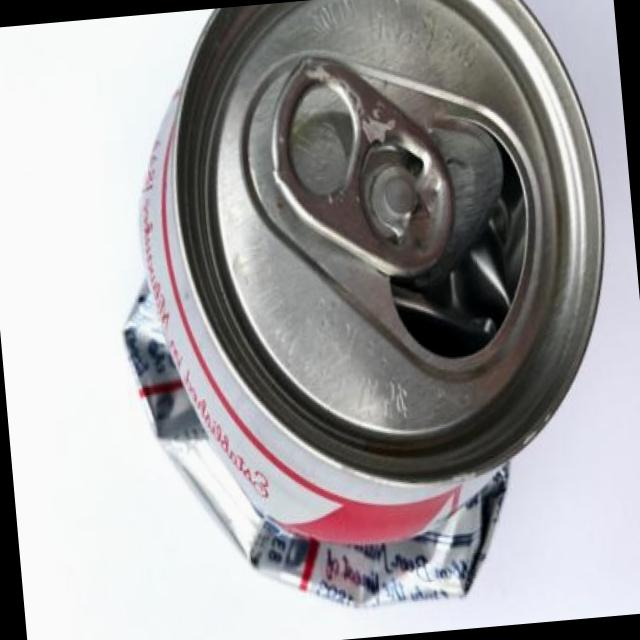kim_loai: (120, 0, 607, 610)
